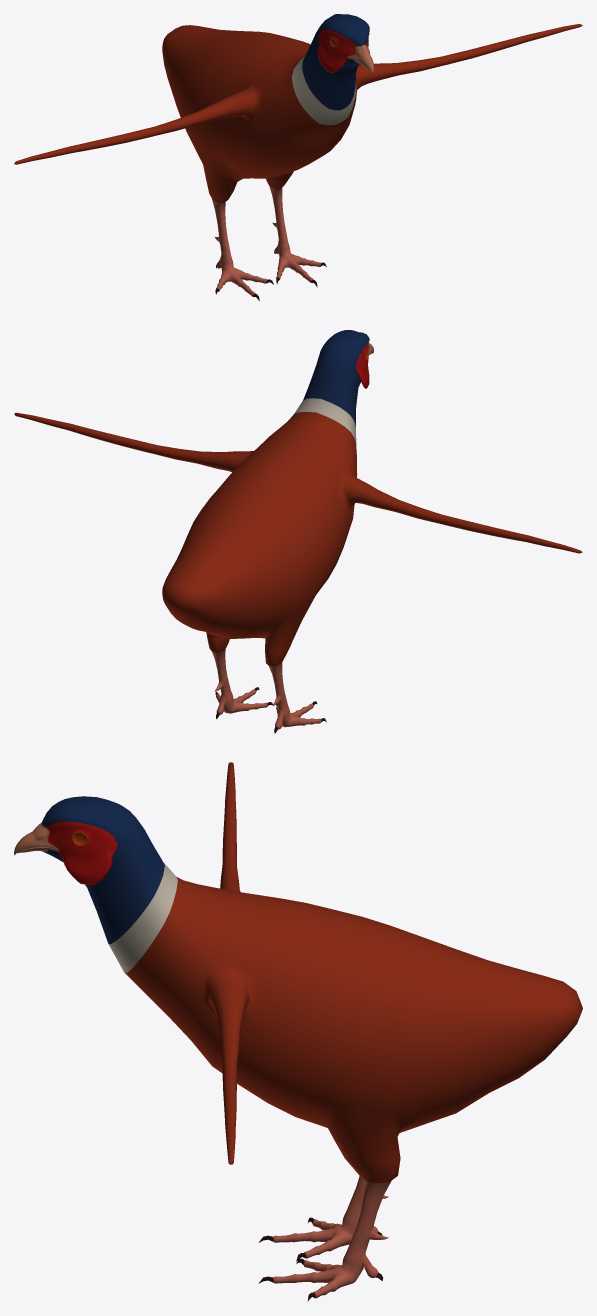
The model's file is pheasant_pheasant.obj.
The picture shows the model from 3 angles, top to bottom: view 1: azimuth 30°, elevation 25°; view 2: azimuth 150°, elevation 25°; view 3: azimuth 270°, elevation 25°; orthographic projection. The views are drawn at different scales.
Visible parts, largest first — view 1: pheasant; view 2: pheasant; view 3: pheasant.
Boxes of the visible parts, x1,y1,x2,y2 form: pheasant: [14, 14, 582, 300]; pheasant: [14, 330, 582, 733]; pheasant: [14, 762, 582, 1301].
Size of the model in its own units: 0.6946 by 0.3722 by 0.4156.
